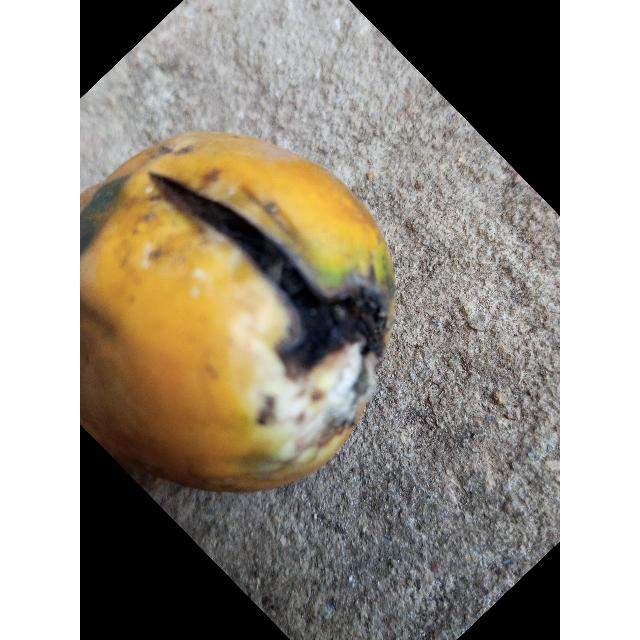damaged: (80, 131, 395, 496)
